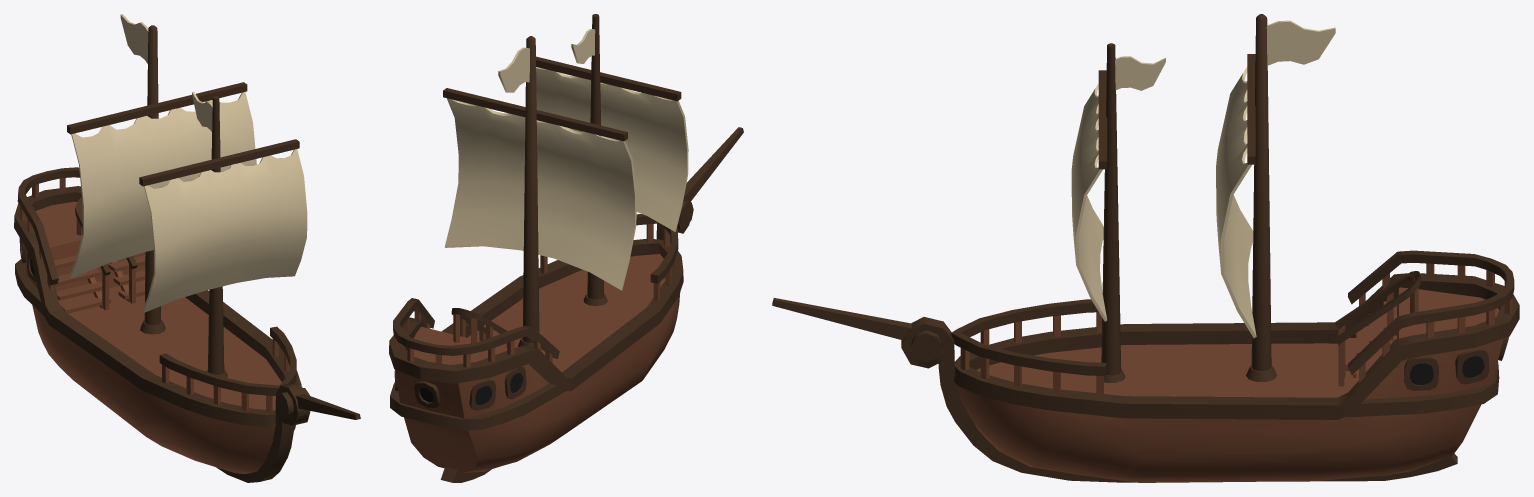
The model's file is Ship_01.fbx.
3 renders of one model, left to right at view 1: azimuth 30°, elevation 25°; view 2: azimuth 150°, elevation 25°; view 3: azimuth 270°, elevation 25°, orthographic. The views are drawn at different scales.
Parts seen in each view (by area): view 1: Ship_01, Ship_01_Sail_F, Ship_01_Sail_B; view 2: Ship_01, Ship_01_Sail_B, Ship_01_Sail_F; view 3: Ship_01, Ship_01_Sail_B, Ship_01_Sail_F.
Boxes of the visible parts, x1,y1,x2,y2 form: Ship_01: [14, 167, 360, 482]; Ship_01_Sail_F: [139, 91, 307, 377]; Ship_01_Sail_B: [67, 14, 256, 334]; Ship_01: [389, 127, 743, 482]; Ship_01_Sail_B: [443, 36, 636, 350]; Ship_01_Sail_F: [536, 14, 688, 305]; Ship_01: [772, 250, 1519, 482]; Ship_01_Sail_B: [1216, 14, 1335, 381]; Ship_01_Sail_F: [1071, 43, 1165, 382].
Size of the model in its own units: 0.2154 by 0.4537 by 0.6617.
